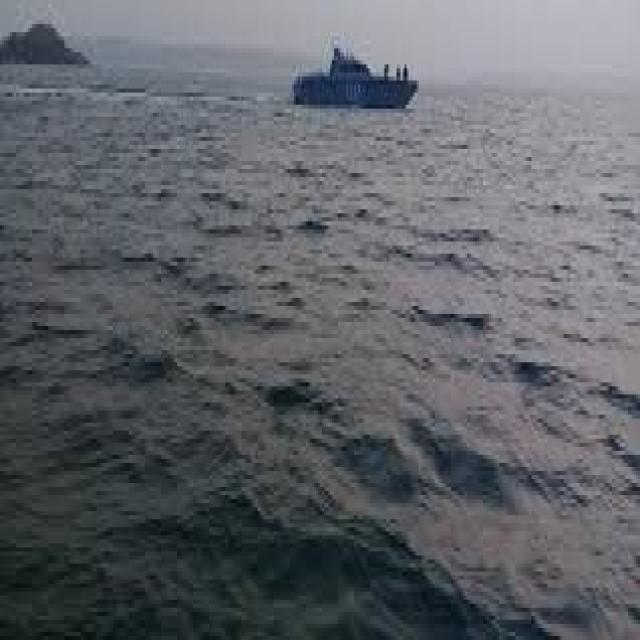houseboat: (289, 31, 416, 108)
